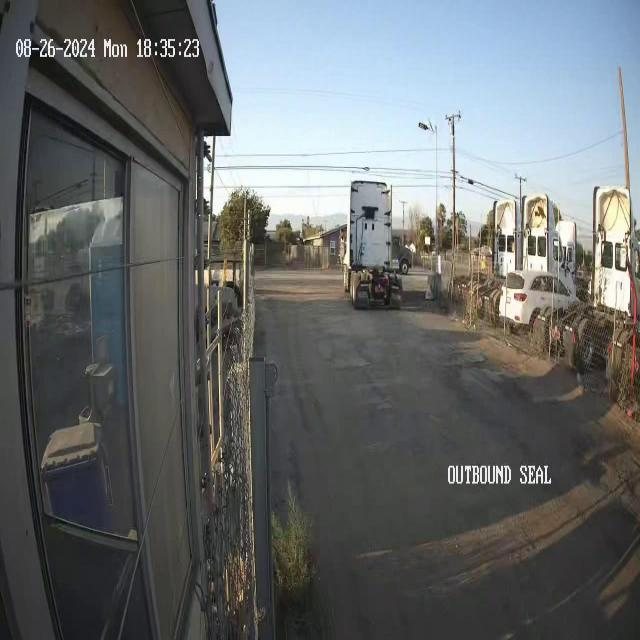TRUCK_OUT: (340, 172, 403, 310)
